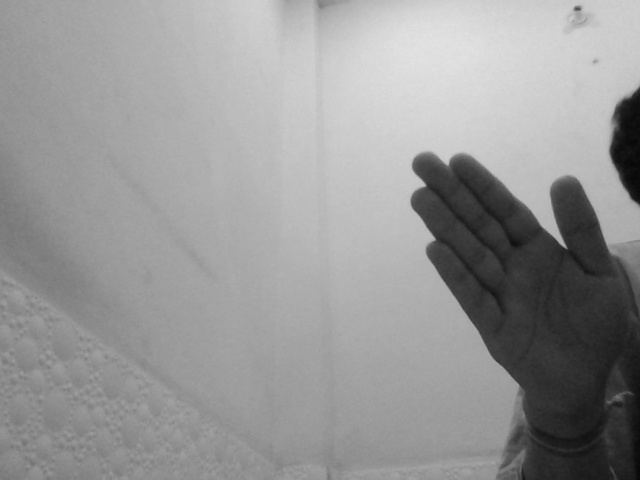Hello: (405, 151, 634, 406)
